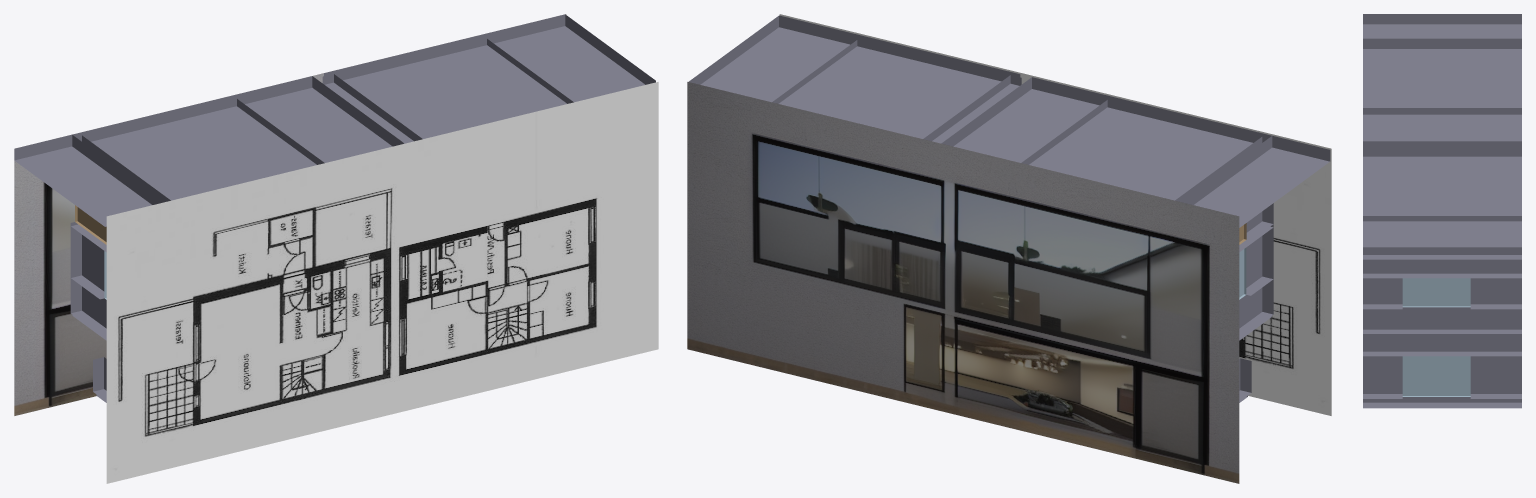
The picture shows the model from 3 angles, left to right: view 1: azimuth 30°, elevation 25°; view 2: azimuth 150°, elevation 25°; view 3: azimuth 270°, elevation 25°; orthographic projection. The views are drawn at different scales.
Visible parts, largest first — view 1: FloorPlan, 19_png.rf.5435466b5cc5a5cf9cbc1da0f911767b, InteriorFloor; view 2: InteriorFloor, 19_png.rf.5435466b5cc5a5cf9cbc1da0f911767b, FloorPlan; view 3: 19_png.rf.5435466b5cc5a5cf9cbc1da0f911767b.
Part boxes in pixels (bbox=[...]): FloorPlan: bbox=[106, 82, 658, 483]; 19_png.rf.5435466b5cc5a5cf9cbc1da0f911767b: bbox=[14, 14, 655, 402]; InteriorFloor: bbox=[14, 14, 566, 415]; InteriorFloor: bbox=[687, 82, 1239, 483]; 19_png.rf.5435466b5cc5a5cf9cbc1da0f911767b: bbox=[688, 15, 1330, 402]; FloorPlan: bbox=[779, 14, 1331, 415]; 19_png.rf.5435466b5cc5a5cf9cbc1da0f911767b: bbox=[1363, 14, 1521, 408].
Bounding box in the file's own units: 9.82 × 4.55 × 2.85.
Materials: 3 (2 with a texture image).
